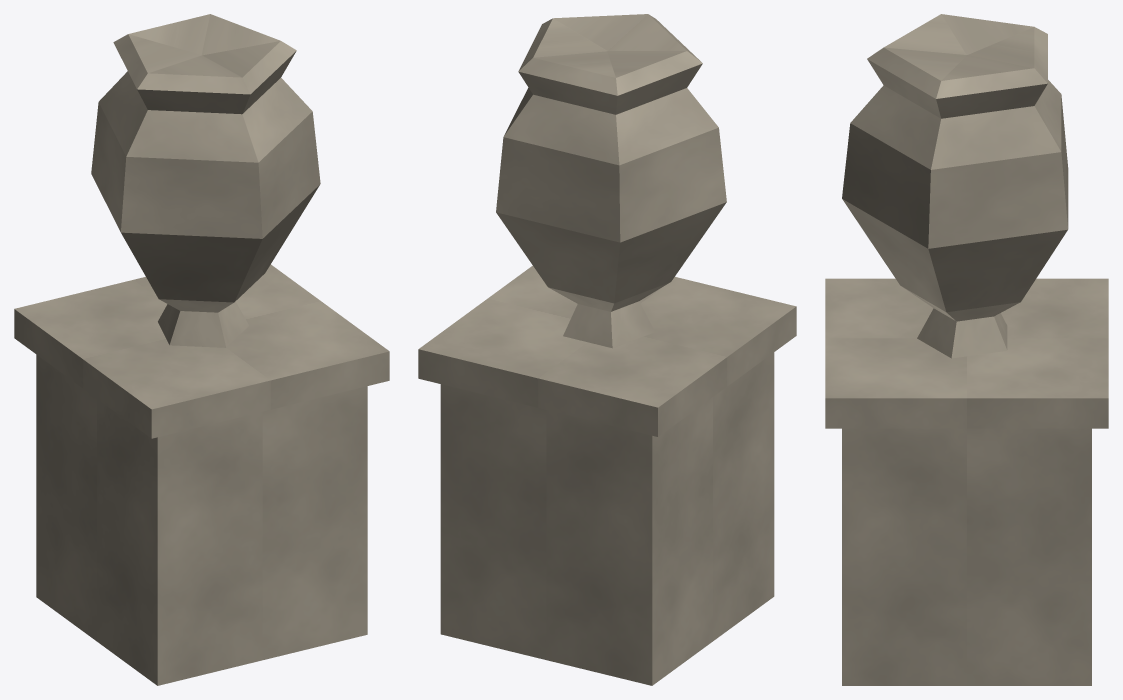
File: Urn_Stone_1_LOD2.gltf
3 views of the same model, side by side, from view 1: azimuth 30°, elevation 25°; view 2: azimuth 150°, elevation 25°; view 3: azimuth 270°, elevation 25° (orthographic). The views are drawn at different scales.
Visible parts, largest first — view 1: Urn_Stone_1_LOD2; view 2: Urn_Stone_1_LOD2; view 3: Urn_Stone_1_LOD2.
Boxes of the visible parts, <box> form: Urn_Stone_1_LOD2: <box>14,14,389,685</box>; Urn_Stone_1_LOD2: <box>418,14,796,685</box>; Urn_Stone_1_LOD2: <box>825,14,1108,685</box>.
Bounding box in the file's own units: 0.68 × 1.55 × 0.68.
1 material, 1 textured.
